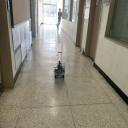cart: (54, 63, 65, 79)
